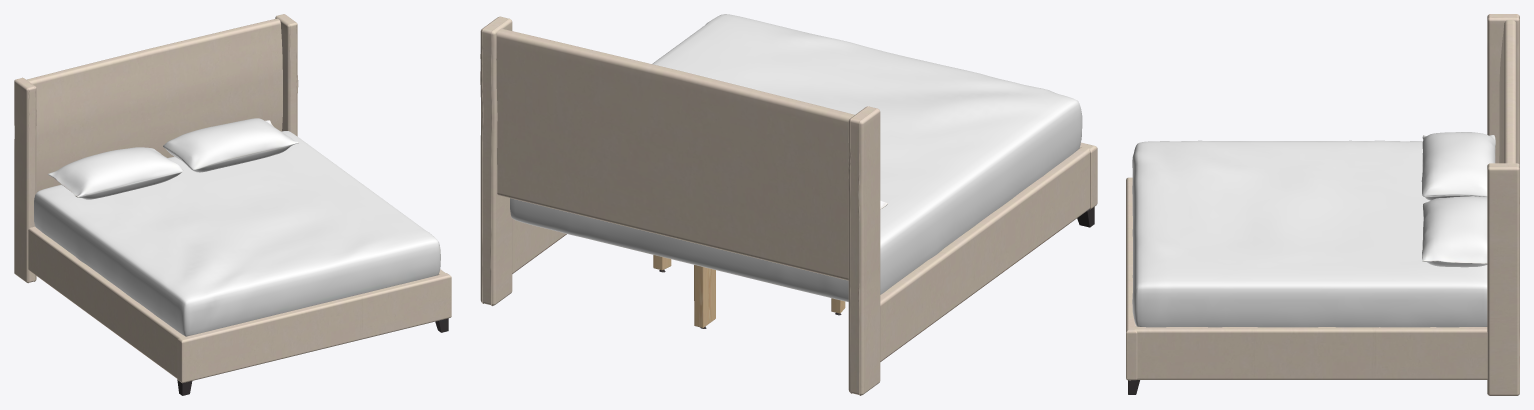
Rendered from clifton_upholstered_king_bed.glb.
3 renders of one model, left to right at view 1: azimuth 30°, elevation 25°; view 2: azimuth 150°, elevation 25°; view 3: azimuth 270°, elevation 25°, orthographic. The views are drawn at different scales.
Parts seen in each view (by area): view 1: RootNode; view 2: RootNode; view 3: RootNode.
Part boxes in pixels (x1,y1,x2,y2): RootNode: [14, 14, 451, 395]; RootNode: [480, 14, 1097, 395]; RootNode: [1126, 14, 1519, 395].
Size of the model in its own units: 2.14 by 1.47 by 2.29.
1 material, 1 textured.
